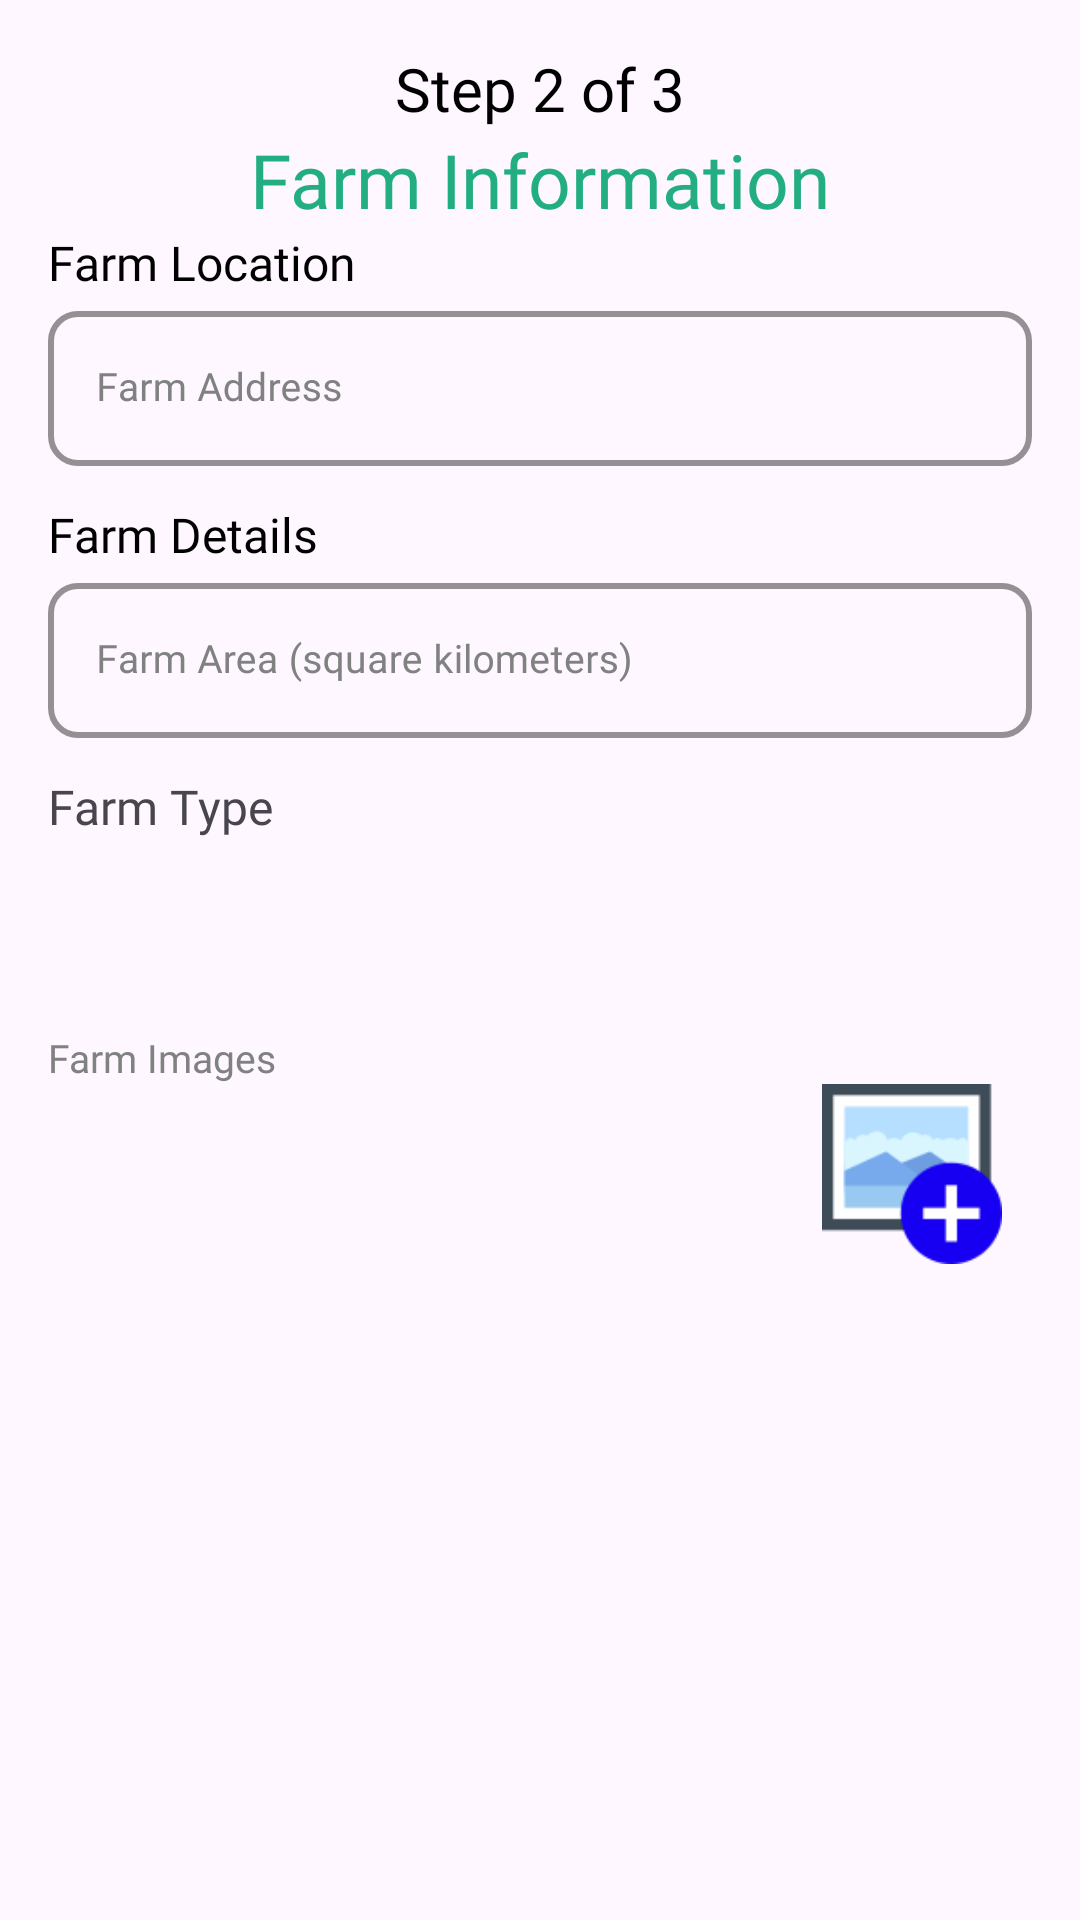

Icon bounding boxes for this 1080px×1920px phone screenshot, format (x1, y1, x2, y2):
upload: (822, 1084, 1002, 1264)
